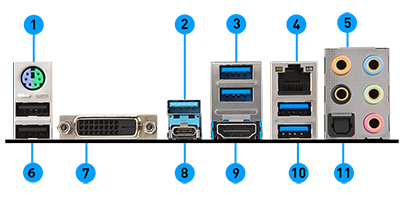DVI: (72, 117, 140, 138)
Ethernet: (270, 62, 317, 99)
HDMI: (215, 121, 262, 141)
